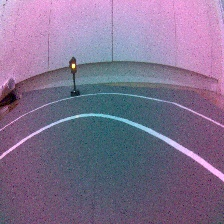amber: (67, 56, 81, 98)
